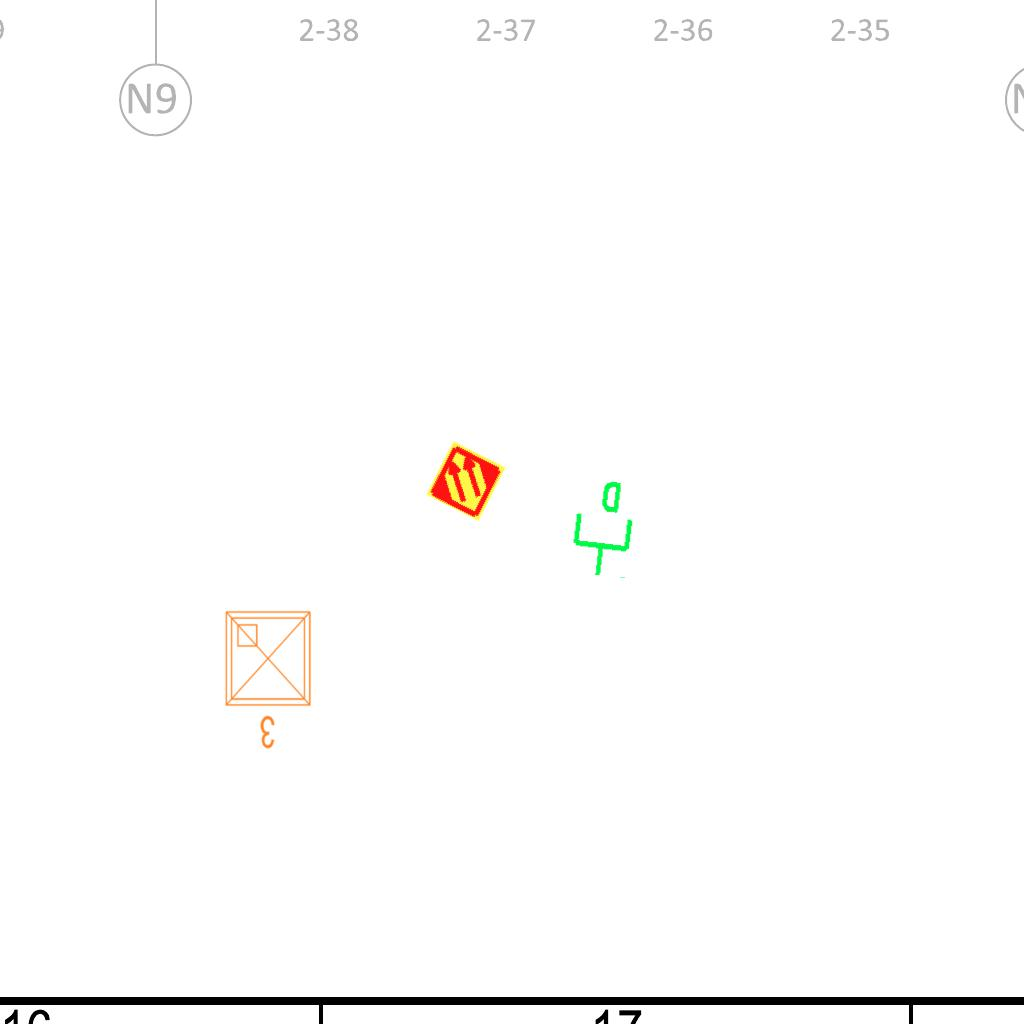ASR_Ansaugrauchmelder: (424, 439, 508, 523)
Datenanschluss_einfach: (561, 474, 642, 582)
Einbaudownlights_LED_Konferenzraeume: (218, 604, 322, 754)
